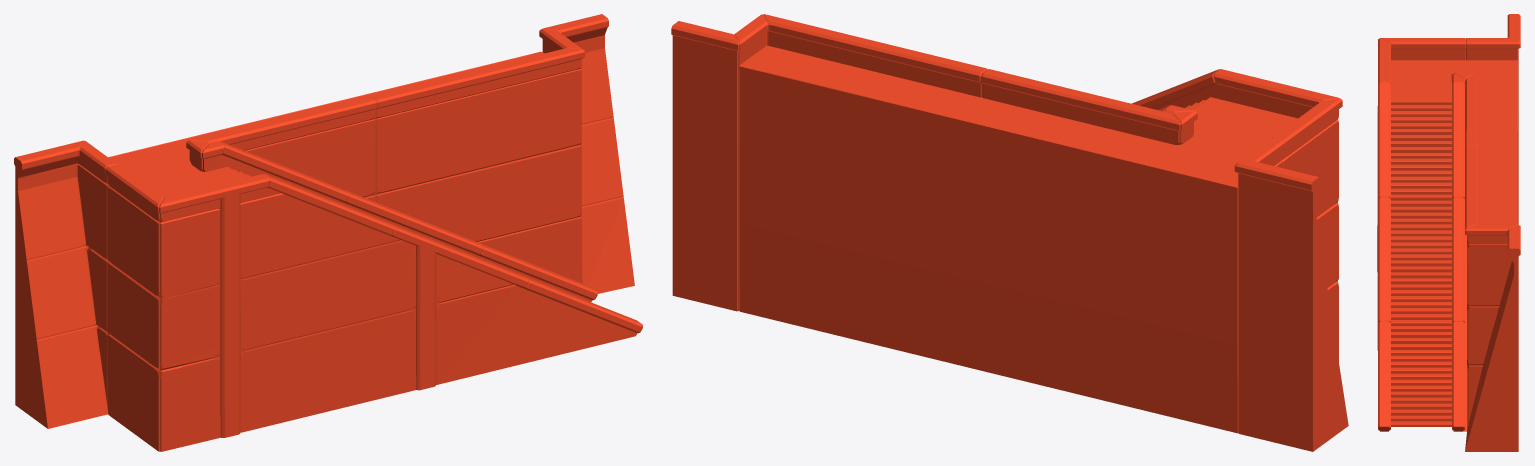
Rendered from SM_Wall_Stairs_City.fbx.
3 views of the same model, side by side, from view 1: azimuth 30°, elevation 25°; view 2: azimuth 150°, elevation 25°; view 3: azimuth 270°, elevation 25° (orthographic). The views are drawn at different scales.
Visible parts, largest first — view 1: SM_Wall_Stairs_City; view 2: SM_Wall_Stairs_City; view 3: SM_Wall_Stairs_City.
Part boxes in pixels (x1,y1,x2,y2): SM_Wall_Stairs_City: (14, 14, 642, 451); SM_Wall_Stairs_City: (671, 14, 1348, 451); SM_Wall_Stairs_City: (1377, 14, 1520, 451).
Size of the model in its own units: 30 by 12.1 by 7.73.
